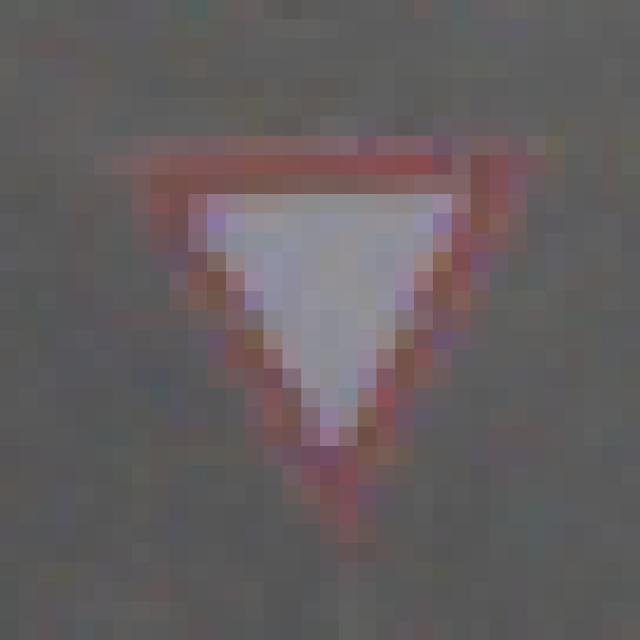Give Way: (114, 98, 547, 544)
